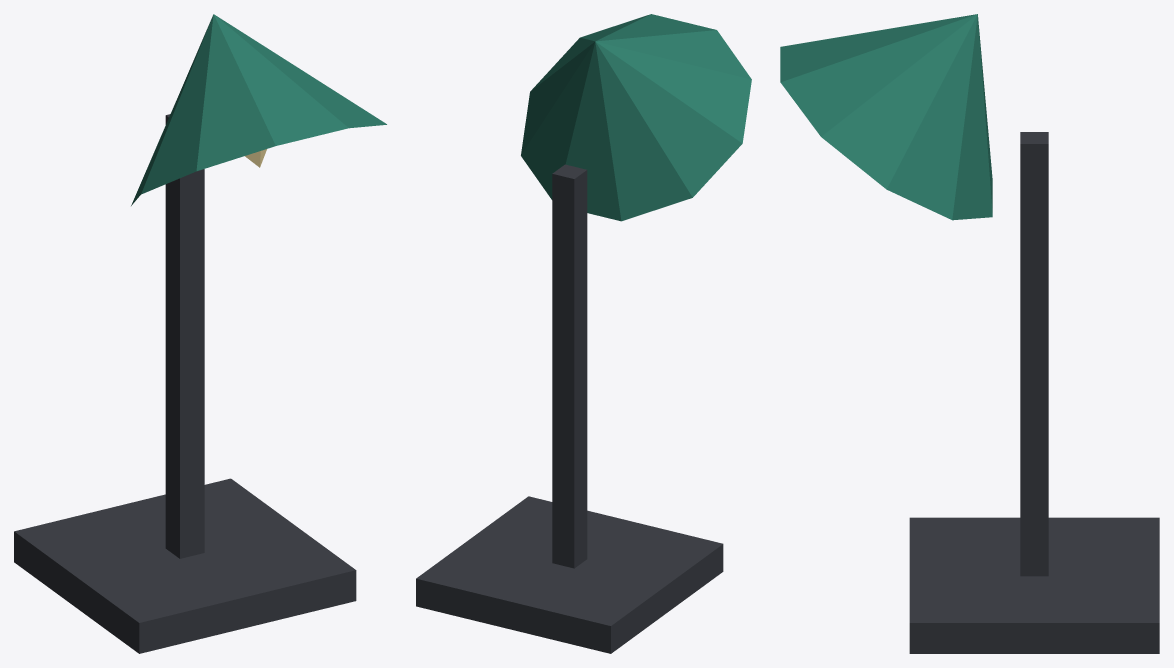
File: lamp.gltf
The picture shows the model from 3 angles, left to right: view 1: azimuth 30°, elevation 25°; view 2: azimuth 150°, elevation 25°; view 3: azimuth 270°, elevation 25°; orthographic projection. The views are drawn at different scales.
Parts seen in each view (by area): view 1: base, shade, pole; view 2: shade, base, pole; view 3: base, shade, pole.
Boxes of the visible parts, <box> form: base: <box>14,478,356,653</box>; shade: <box>131,14,386,205</box>; pole: <box>165,114,204,558</box>; shade: <box>521,14,751,221</box>; base: <box>416,496,723,653</box>; pole: <box>552,164,587,568</box>; base: <box>909,517,1159,653</box>; shade: <box>780,14,992,220</box>; pole: <box>1020,132,1048,576</box>.
Bounding box in the file's own units: 0.24 × 0.5704 × 0.3337.
